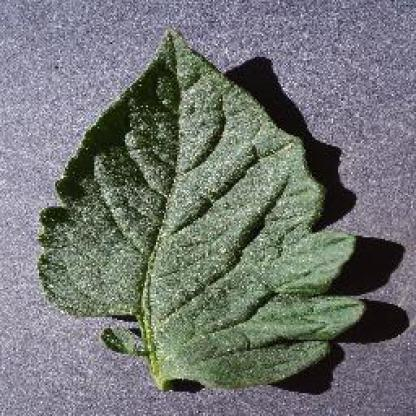bad leaf: (30, 44, 361, 393)
